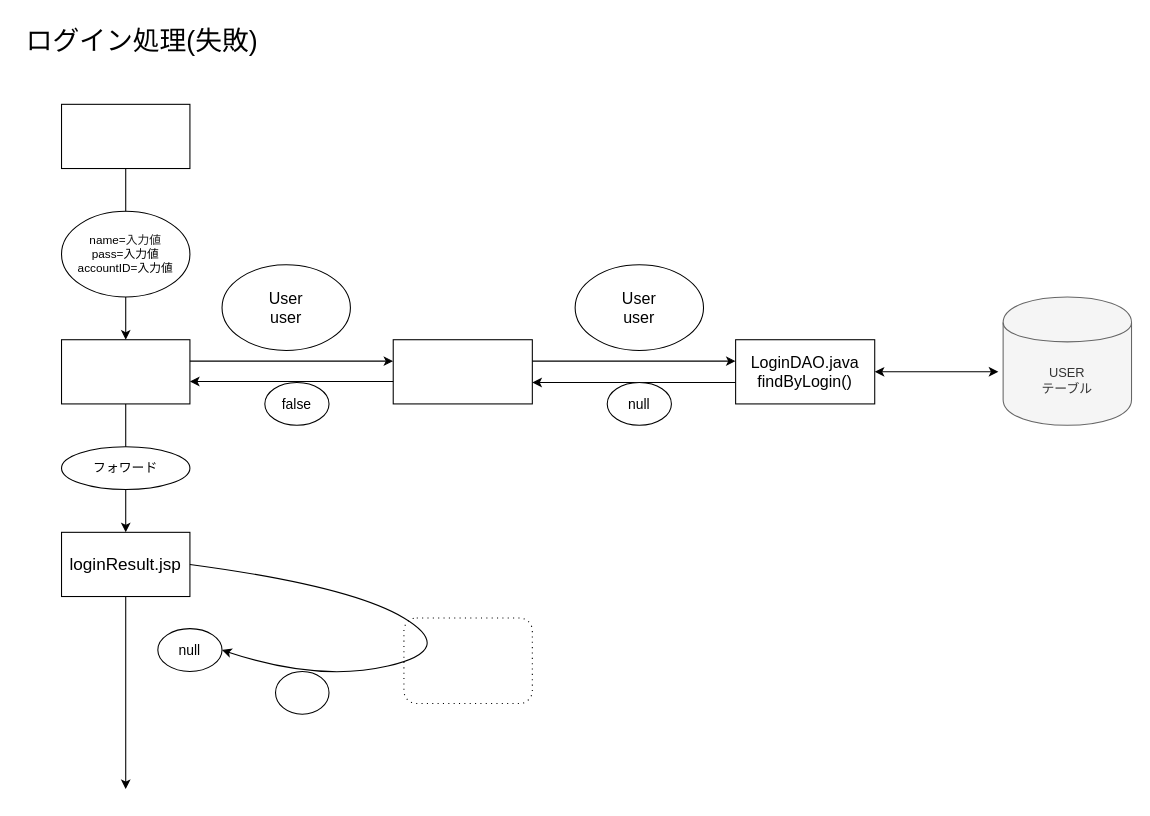
The diagram is 1150 pixels wide and 816 high, and some of its shapes have lost their labels. Each missing label, with the centre of its shape:
"index.jsp" goes at (125,136).
"LoginLogic.java execute()" goes at (462,371).
"LoginServlet.java doPost()" goes at (125,371).
"セッション スコープ" goes at (467,660).
"取得" goes at (301,692).
